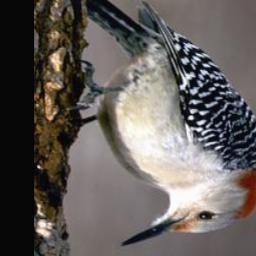Woodpecker: (68, 0, 256, 247)
